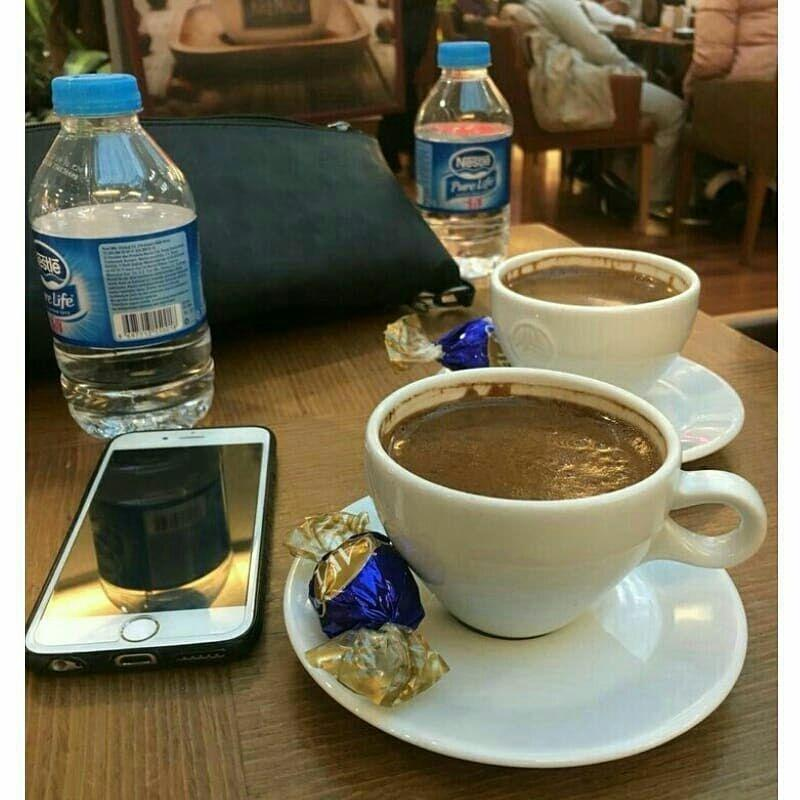bottle-plastic: (27, 70, 217, 444), (412, 39, 515, 275)
cup-handle: (362, 364, 769, 641), (484, 249, 702, 393)
